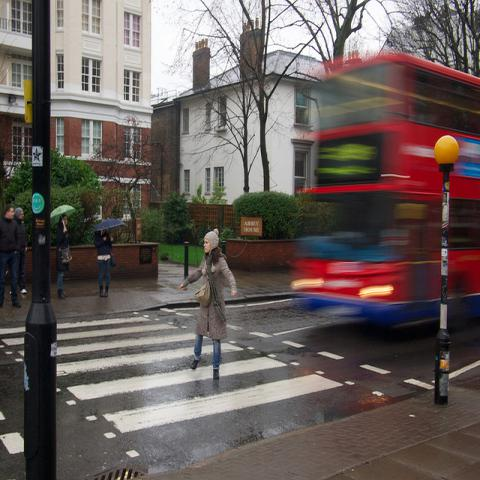bus: (290, 52, 480, 330)
